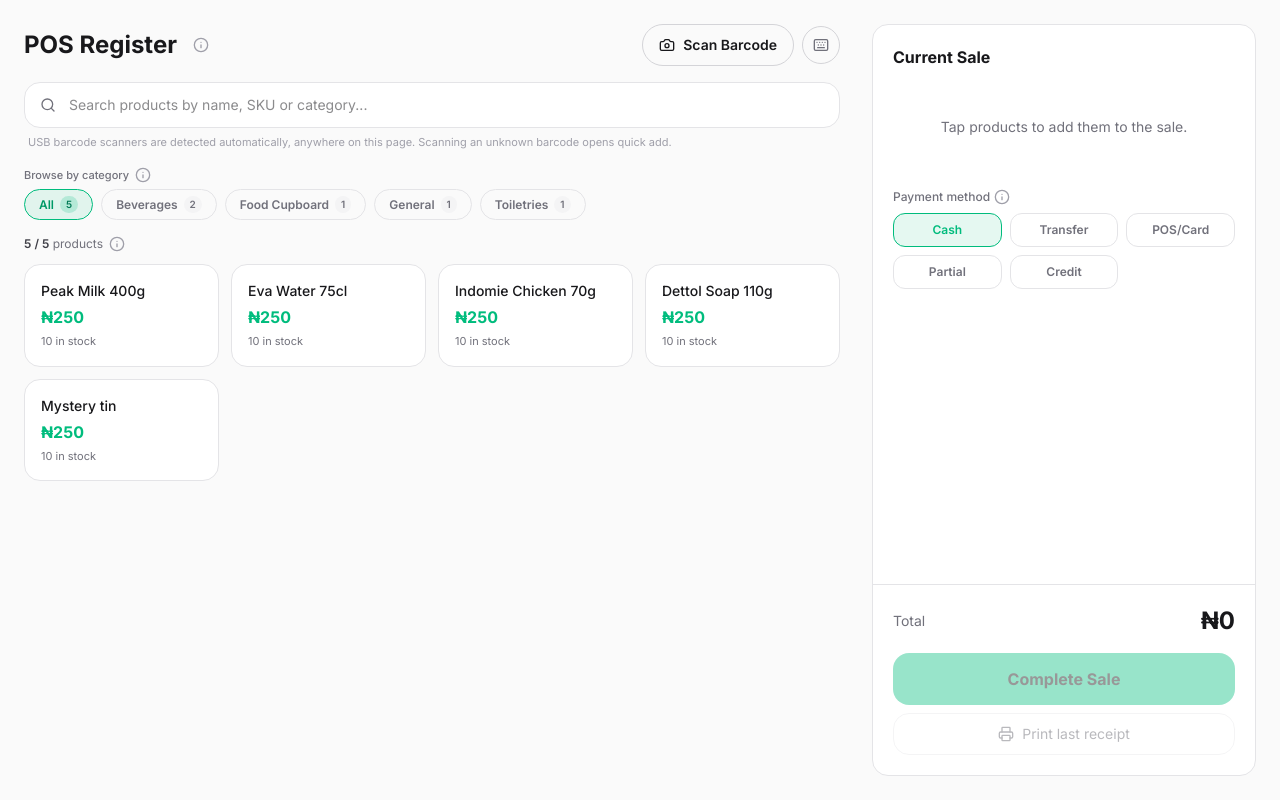
Test: POS: category filters › combines the category tab with the search box
The image size is (1280, 800).
Expected: the text "Peak Milk 400g" is shown, [41,281,145,301]
Step 1. Click the button "Beverages 2" → point(159, 205), box [101,189,217,220]
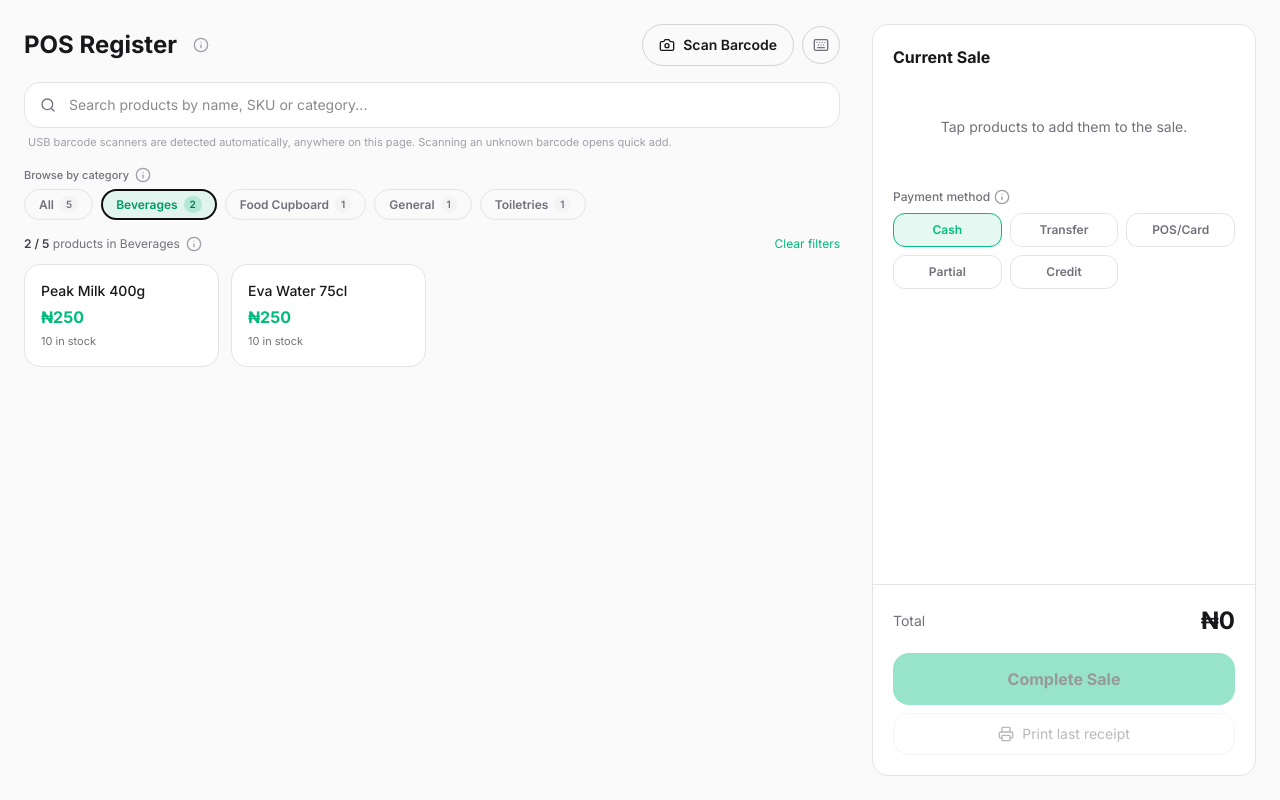
Step 2. Type "water" into the field labelled "Search products by name, SKU or category..." → point(432, 105), box [24,82,840,128]
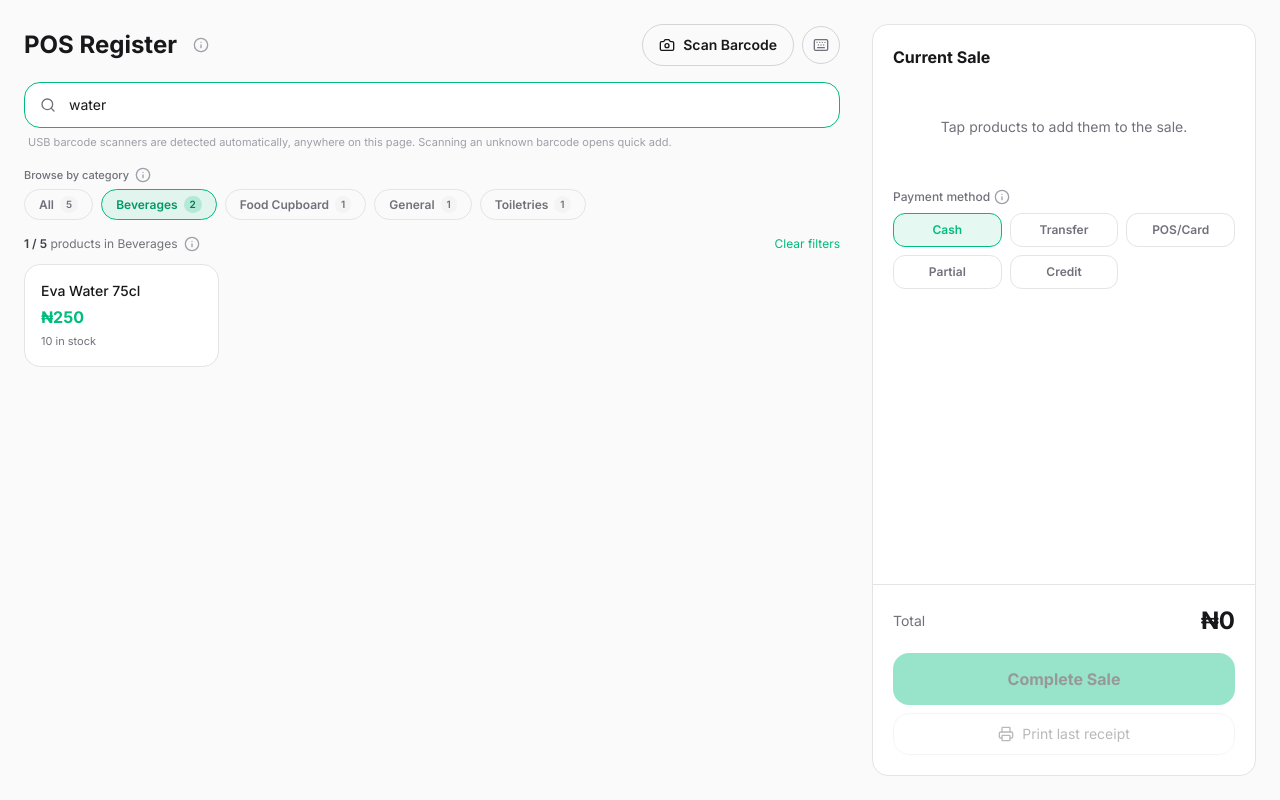
Expected: the text "Eva Water 75cl" is shown, [41,281,140,301]
Result: the message reads "1 / 5 products in Beverages" at [24,236,178,252]
Result: the button "Peak Milk 400g" is gone
Step 3. Replace the text in the field named "Search products" with "rice" → point(432, 105), box [24,82,840,128]
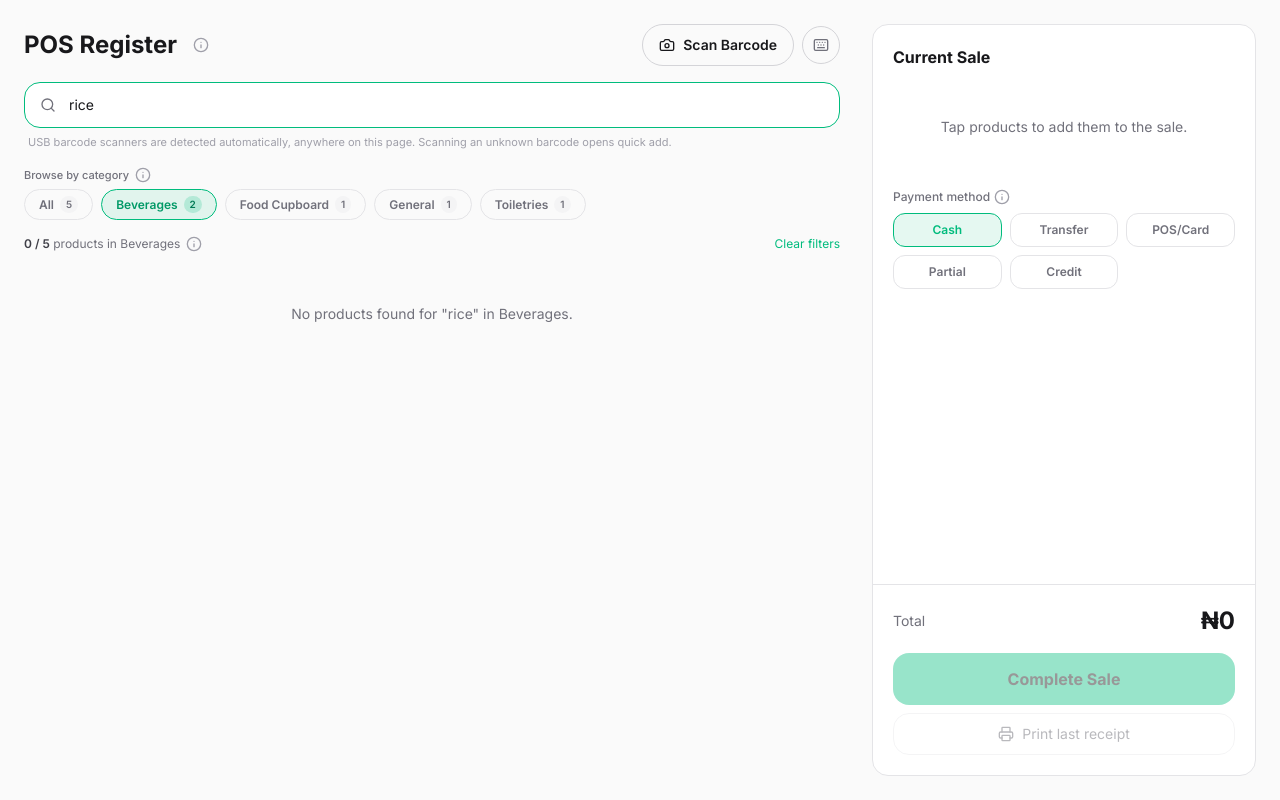
Result: the text "No products found for \"rice\" in Beverages." is shown at [291,305,573,322]
Step 4. Click the button "Clear filters" → point(807, 244), box [774,236,840,252]
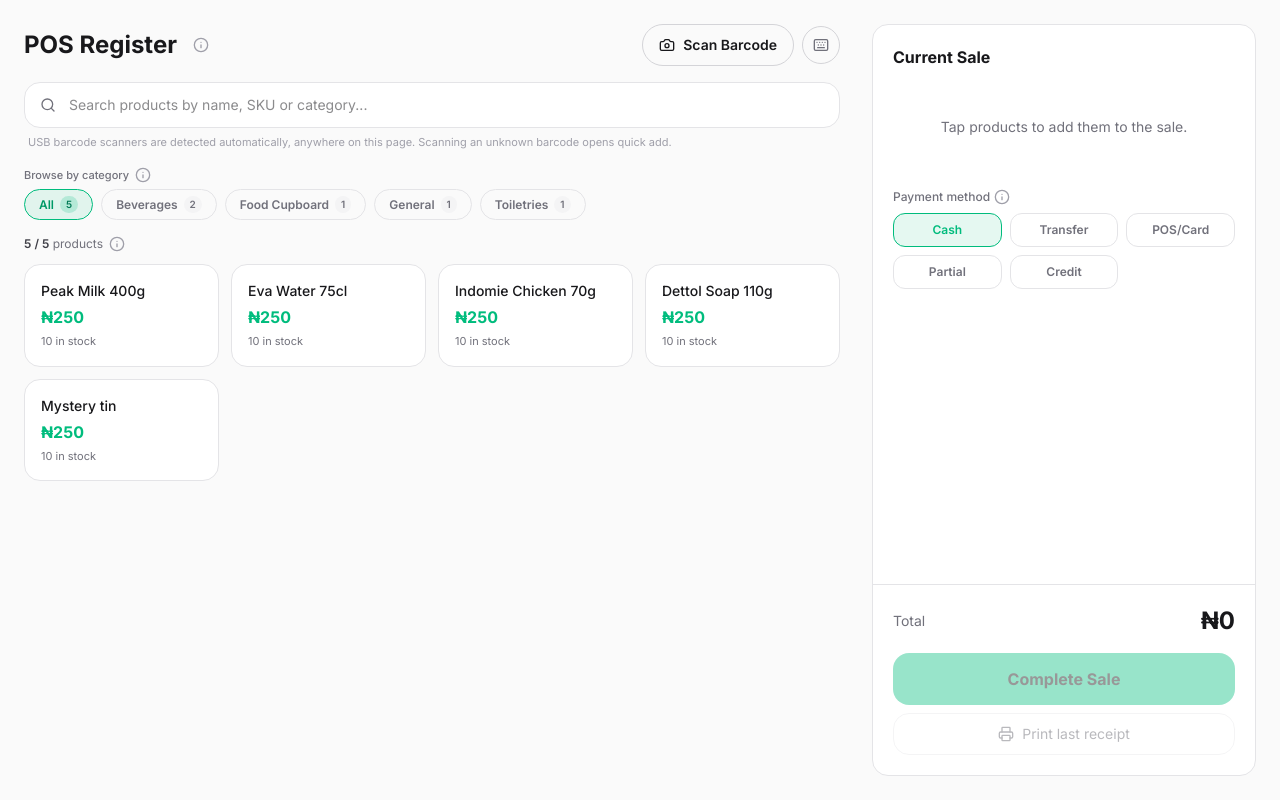
Result: the text "Dettol Soap 110g" is shown at [662,281,773,301]
